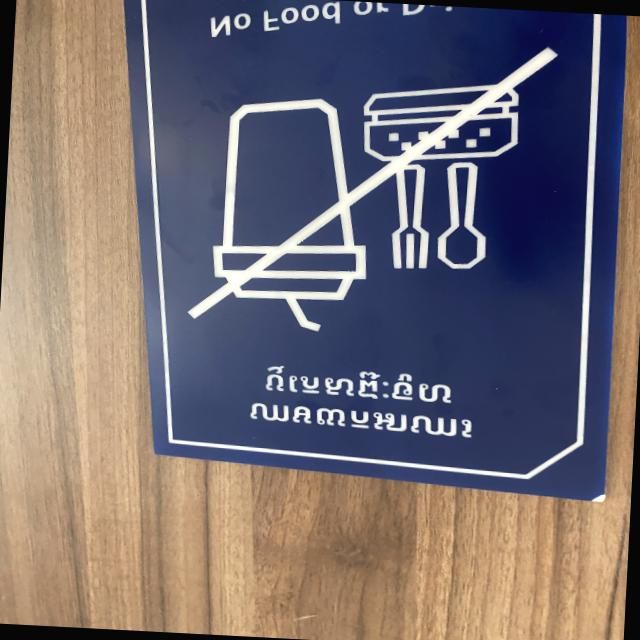Yolov11_80vkh: (245, 399, 477, 444), (261, 360, 456, 407)
